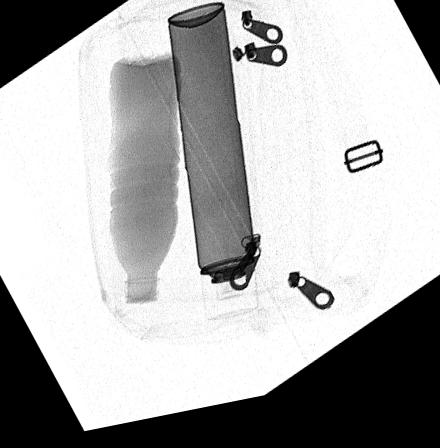Sprayer: (167, 9, 257, 328)
